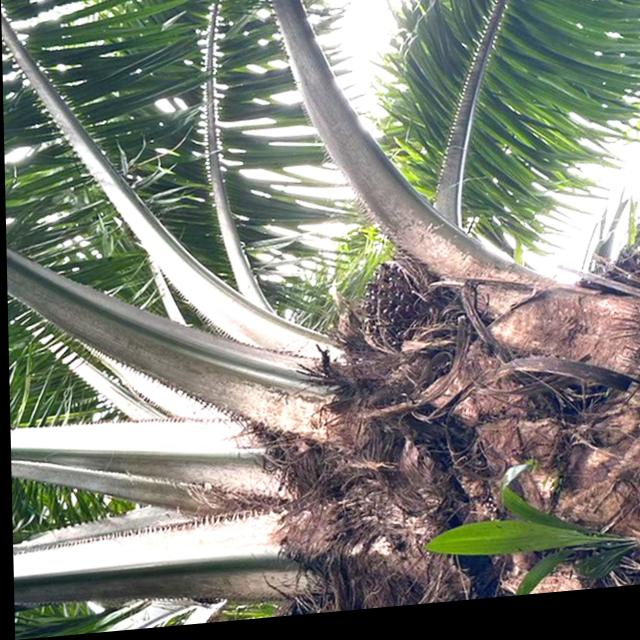almost: (354, 256, 445, 367)
